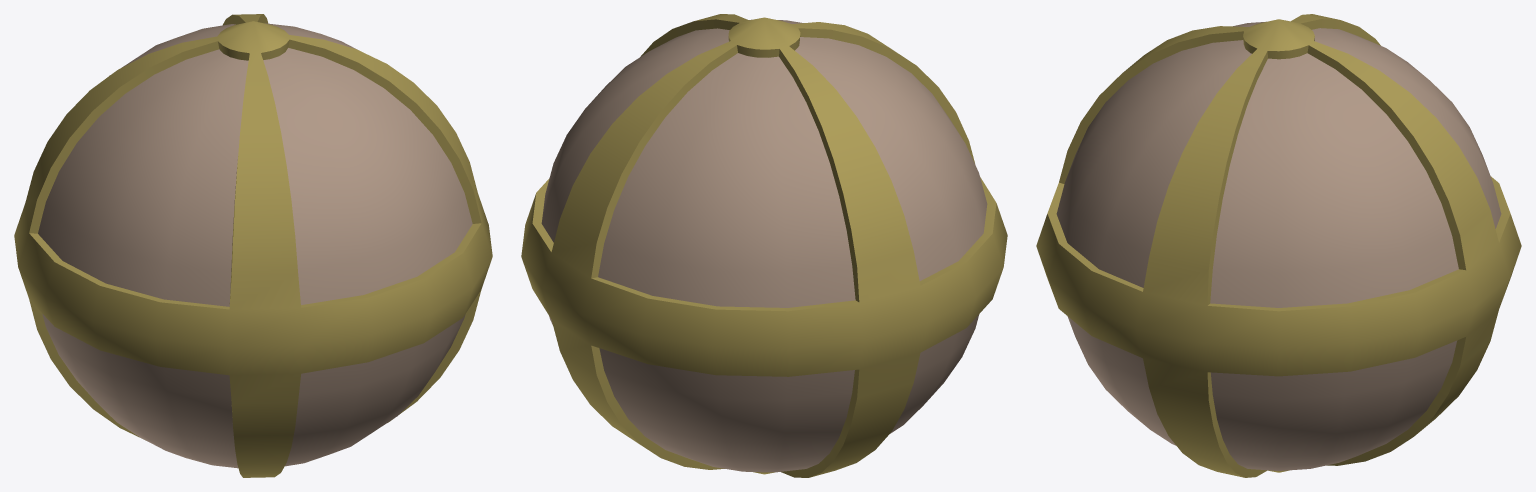
File: ChargedPlanet.fbx
The picture shows the model from 3 angles, left to right: view 1: azimuth 30°, elevation 25°; view 2: azimuth 150°, elevation 25°; view 3: azimuth 270°, elevation 25°; orthographic projection.
Parts seen in each view (by area): view 1: pSphere2; view 2: pSphere2; view 3: pSphere2.
Boxes of the visible parts, left/top/right/bottom form: pSphere2: left=14, top=14, right=492, bottom=477; pSphere2: left=521, top=14, right=1007, bottom=477; pSphere2: left=1036, top=14, right=1521, bottom=477.
Bounding box in the file's own units: 932 × 961 × 932.
